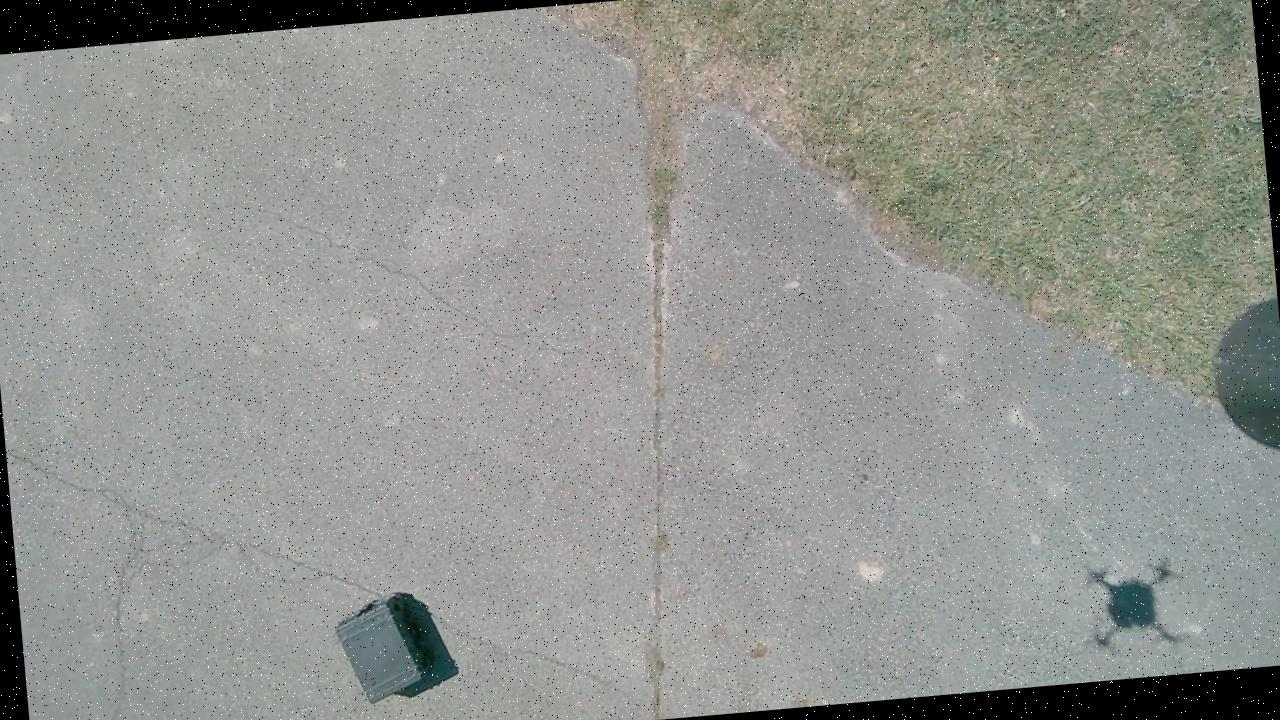rako: (333, 595, 428, 706)
